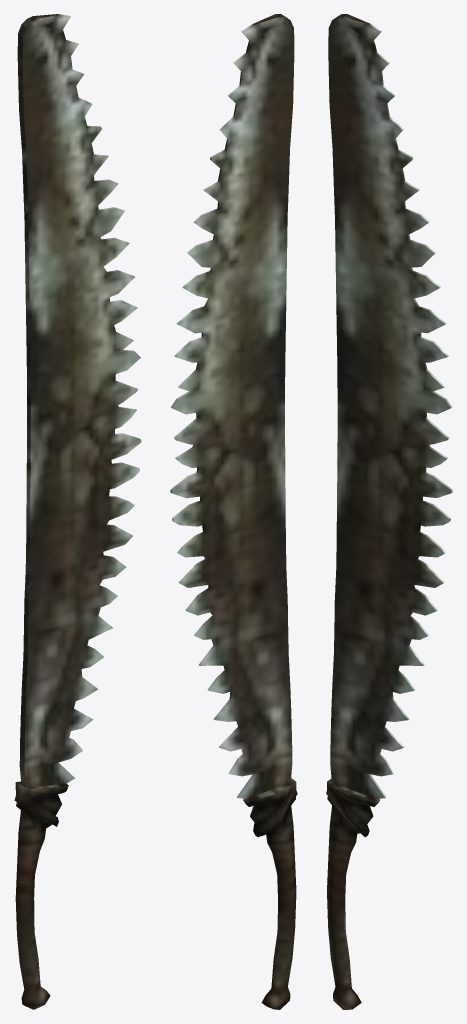
The model's file is weapon-gnarled-saw.glb.
The picture shows the model from 3 angles, left to right: view 1: azimuth 30°, elevation 25°; view 2: azimuth 210°, elevation 25°; view 3: azimuth 330°, elevation 25°; orthographic projection.
Parts seen in each view (by area): view 1: sawSwordA_MDL_q; view 2: sawSwordA_MDL_q; view 3: sawSwordA_MDL_q.
Boxes of the visible parts, box(x1,y1,x2,y2) form: sawSwordA_MDL_q: box(14, 14, 141, 1009); sawSwordA_MDL_q: box(170, 14, 297, 1009); sawSwordA_MDL_q: box(326, 14, 452, 1009).
Size of the model in its own units: 0.3466 by 2.63 by 0.0525.
Materials: 1 (1 with a texture image).
